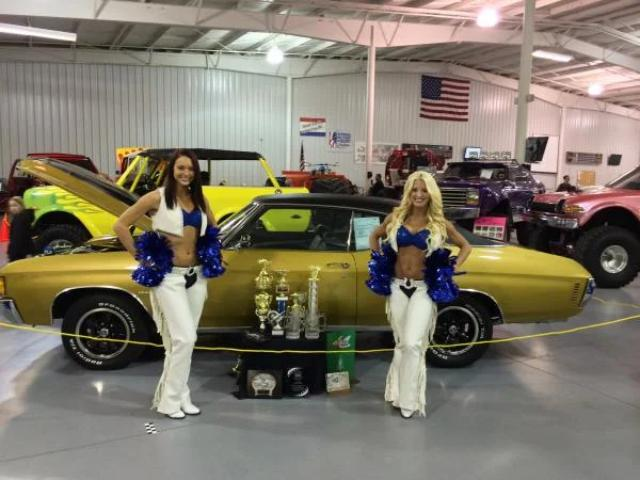chevelle-1972: (199, 194, 397, 330), (206, 195, 381, 325), (0, 238, 153, 369), (436, 227, 593, 345), (27, 161, 134, 212)
